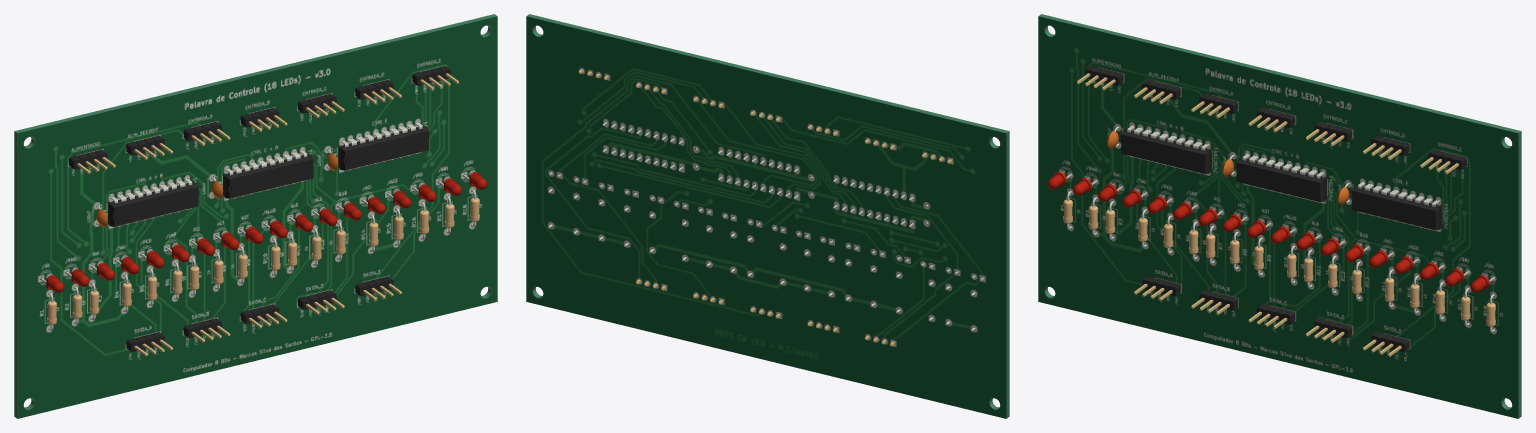
Rendered from cw-palavra-de-controle.glb.
The picture shows the model from 3 angles, left to right: view 1: azimuth 30°, elevation 25°; view 2: azimuth 150°, elevation 25°; view 3: azimuth 330°, elevation 25°; orthographic projection.
Visible parts, largest first — view 1: superficie_topo, =>[0:1:1:12], =>[0:1:1:9]_d3ff25, =>[0:1:1:9]_2_e44cd8, =>[0:1:1:9]_1_3a456b, =>[0:1:1:9], =>[0:1:1:9]_2_49a996, =>[0:1:1:9]_1_8887a8, =>[0:1:1:3]_b45830, =>[0:1:1:3]_11_15a8a1, =>[0:1:1:3]_10_a18abe, =>[0:1:1:3]_1_3858fa (+7 smaller); view 2: superficie_fundo, =>[0:1:1:12]; view 3: superficie_topo, =>[0:1:1:12], =>[0:1:1:9]_1_3a456b, =>[0:1:1:9]_2_e44cd8, =>[0:1:1:9]_d3ff25, =>[0:1:1:9]_1_8887a8, =>[0:1:1:9], =>[0:1:1:9]_2_49a996, =>[0:1:1:3]_b45830, =>[0:1:1:3]_10_a18abe, =>[0:1:1:3]_9_eec7cb, =>[0:1:1:3]_4_888efb (+6 smaller).
Part boxes in pixels (x1,y1,x2,y2): superficie_topo: (17, 16, 497, 418); =>[0:1:1:12]: (14, 14, 496, 418); =>[0:1:1:9]_d3ff25: (223, 154, 313, 198); =>[0:1:1:9]_2_e44cd8: (108, 182, 198, 226); =>[0:1:1:9]_1_3a456b: (338, 126, 428, 170); =>[0:1:1:9]: (225, 150, 307, 199); =>[0:1:1:9]_2_49a996: (110, 178, 192, 227); =>[0:1:1:9]_1_8887a8: (340, 122, 422, 171); =>[0:1:1:3]_b45830: (240, 304, 279, 324); =>[0:1:1:3]_11_15a8a1: (183, 318, 221, 338); =>[0:1:1:3]_10_a18abe: (240, 107, 279, 127); =>[0:1:1:3]_1_3858fa: (126, 135, 164, 155); superficie_fundo: (526, 16, 1006, 418); =>[0:1:1:12]: (527, 14, 1009, 418); superficie_topo: (1038, 16, 1518, 418); =>[0:1:1:12]: (1039, 14, 1521, 418); =>[0:1:1:9]_1_3a456b: (1351, 185, 1442, 230); =>[0:1:1:9]_2_e44cd8: (1121, 129, 1211, 173); =>[0:1:1:9]_d3ff25: (1236, 157, 1326, 202); =>[0:1:1:9]_1_8887a8: (1358, 182, 1439, 230); =>[0:1:1:9]: (1242, 153, 1324, 202); =>[0:1:1:9]_2_49a996: (1127, 125, 1208, 174); =>[0:1:1:3]_b45830: (1256, 304, 1295, 324); =>[0:1:1:3]_10_a18abe: (1256, 107, 1295, 127); =>[0:1:1:3]_9_eec7cb: (1371, 332, 1409, 351); =>[0:1:1:3]_4_888efb: (1371, 135, 1409, 155).
Bounding box in the file's own units: 0.1447 × 0.0823 × 0.0118.
Materials: 8 (2 with a texture image).
